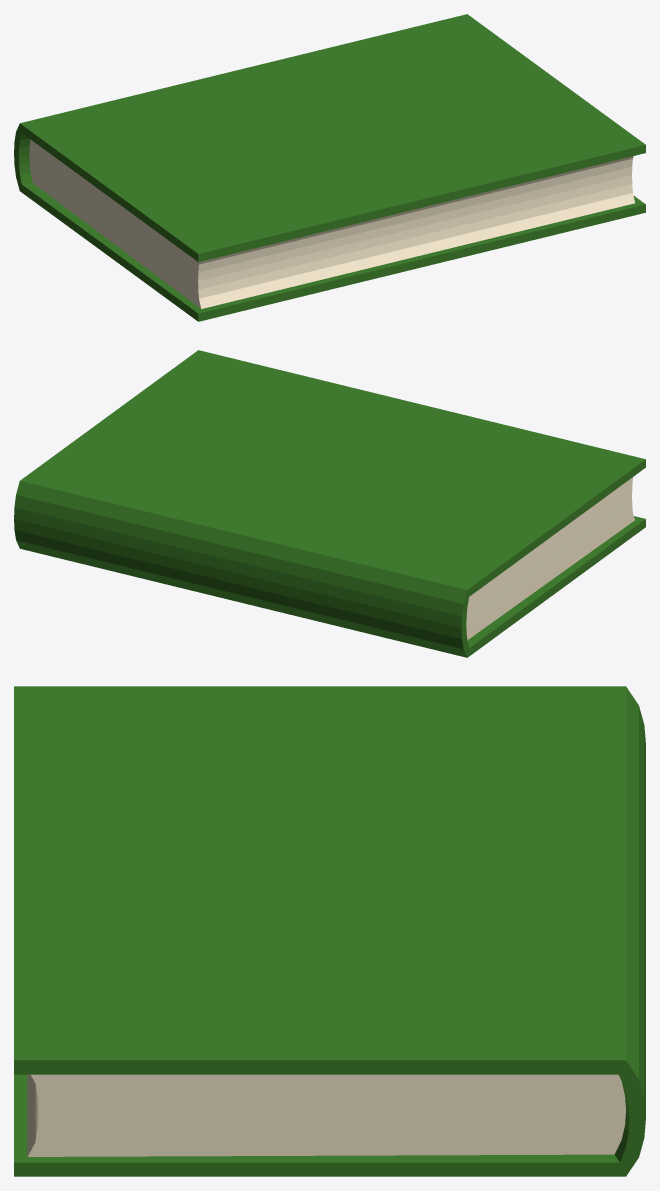
The model's file is Prop_Book_01.fbx.
The picture shows the model from 3 angles, top to bottom: view 1: azimuth 30°, elevation 25°; view 2: azimuth 150°, elevation 25°; view 3: azimuth 270°, elevation 25°; orthographic projection. The views are drawn at different scales.
Visible parts, largest first — view 1: Prop_Book_01; view 2: Prop_Book_01; view 3: Prop_Book_01.
Boxes of the visible parts, box(x1,y1,x2,y2) form: Prop_Book_01: box(14, 14, 645, 321); Prop_Book_01: box(14, 350, 645, 657); Prop_Book_01: box(14, 686, 645, 1176).
Bounding box in the file's own units: 32.39 × 4.69 × 23.12.
